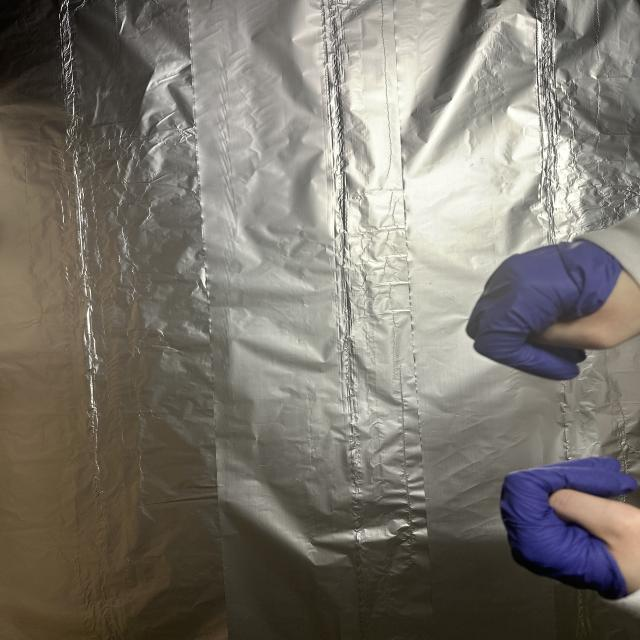glove_partial: (460, 238, 640, 382), (496, 452, 640, 598)
